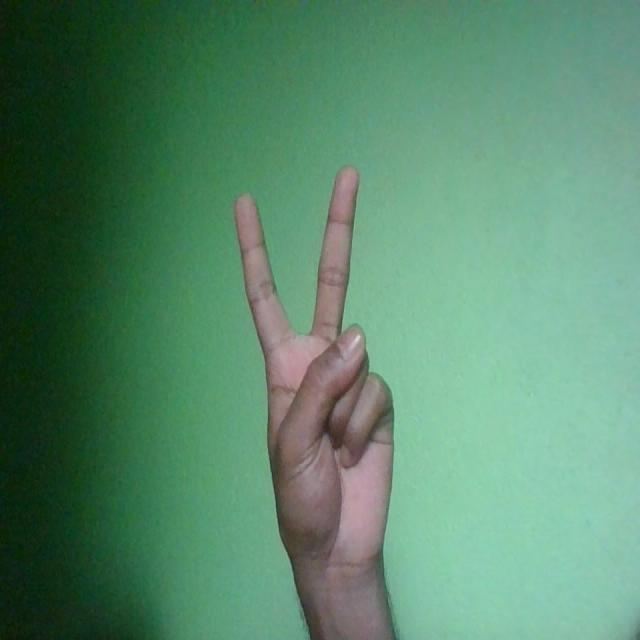Fist: (234, 165, 394, 580)
